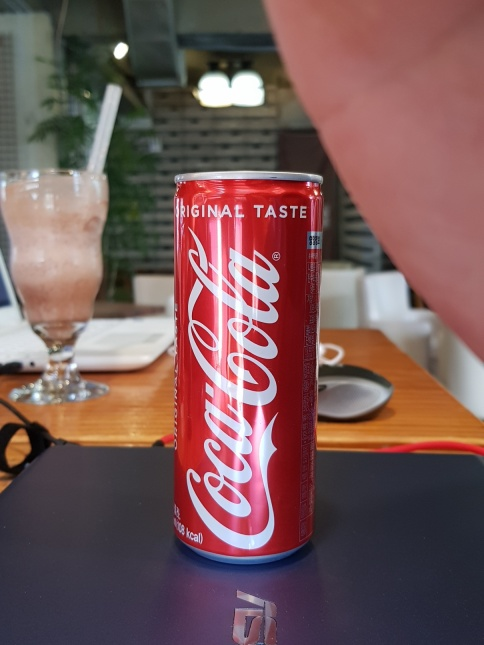Can: (167, 166, 329, 571)
